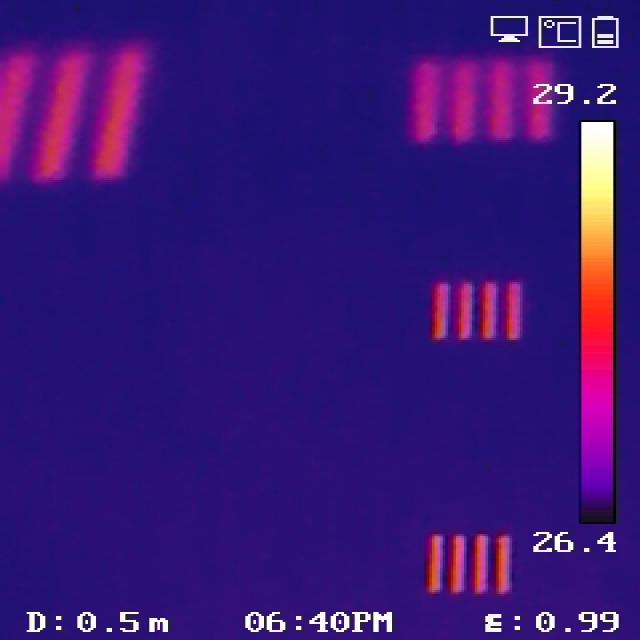Distinguishable 4-bar target: (0, 47, 145, 189), (415, 52, 549, 144), (422, 527, 526, 602), (436, 279, 524, 349)
